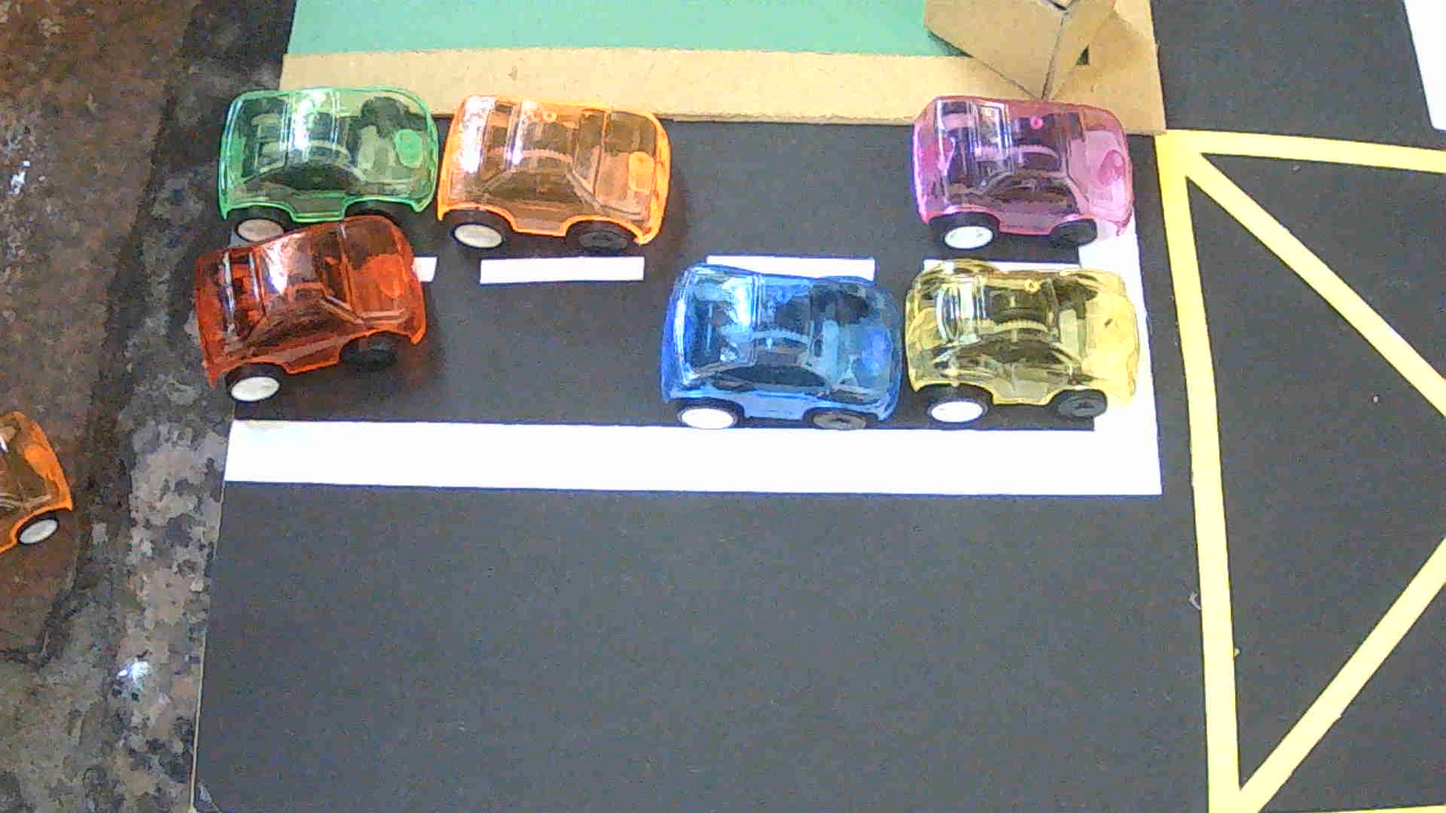Mobil biru: (660, 263, 905, 428)
Mobil hijau: (218, 87, 438, 242)
Mobil kuning: (905, 260, 1139, 427)
Mobil merah: (195, 215, 426, 401)
Mobil orange: (435, 94, 670, 254)
Mobil ungu: (912, 96, 1133, 248)
